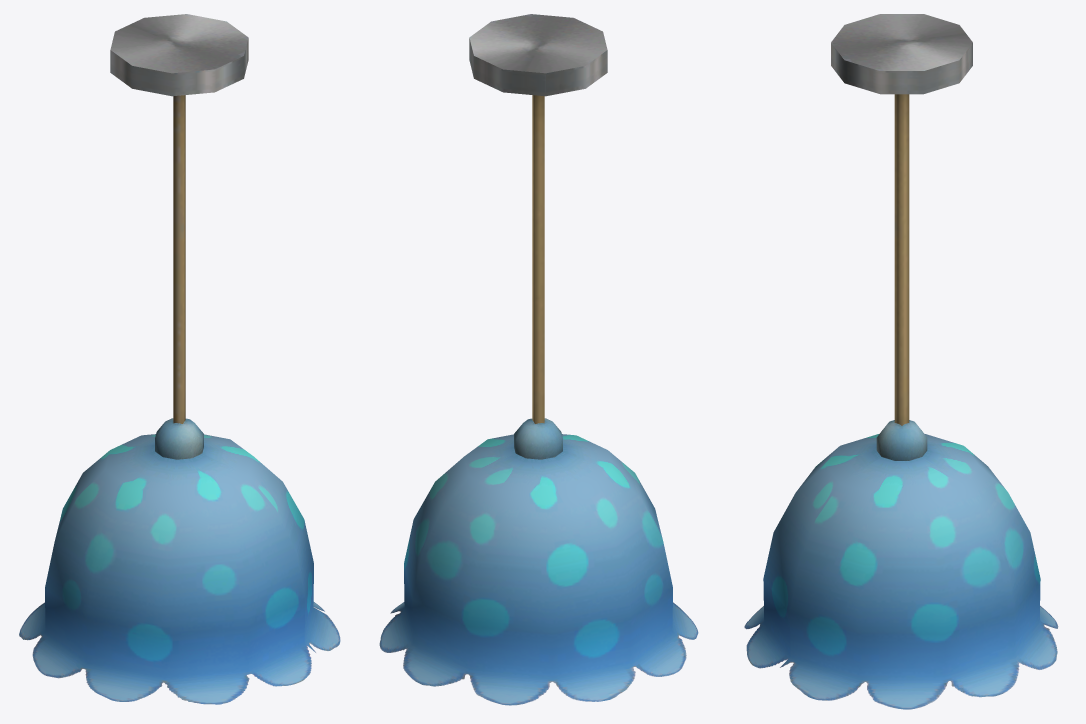
The model's file is furni_0200133_03.FBX.
3 renders of one model, left to right at view 1: azimuth 30°, elevation 25°; view 2: azimuth 150°, elevation 25°; view 3: azimuth 270°, elevation 25°, orthographic.
Parts seen in each view (by area): view 1: furni_0200133_03; view 2: furni_0200133_03; view 3: furni_0200133_03.
Part boxes in pixels (<box>): furni_0200133_03: <box>19,14,340,704</box>; furni_0200133_03: <box>379,14,698,705</box>; furni_0200133_03: <box>744,14,1058,709</box>.
Bounding box in the file's own units: 68.22 × 140 × 71.73.
